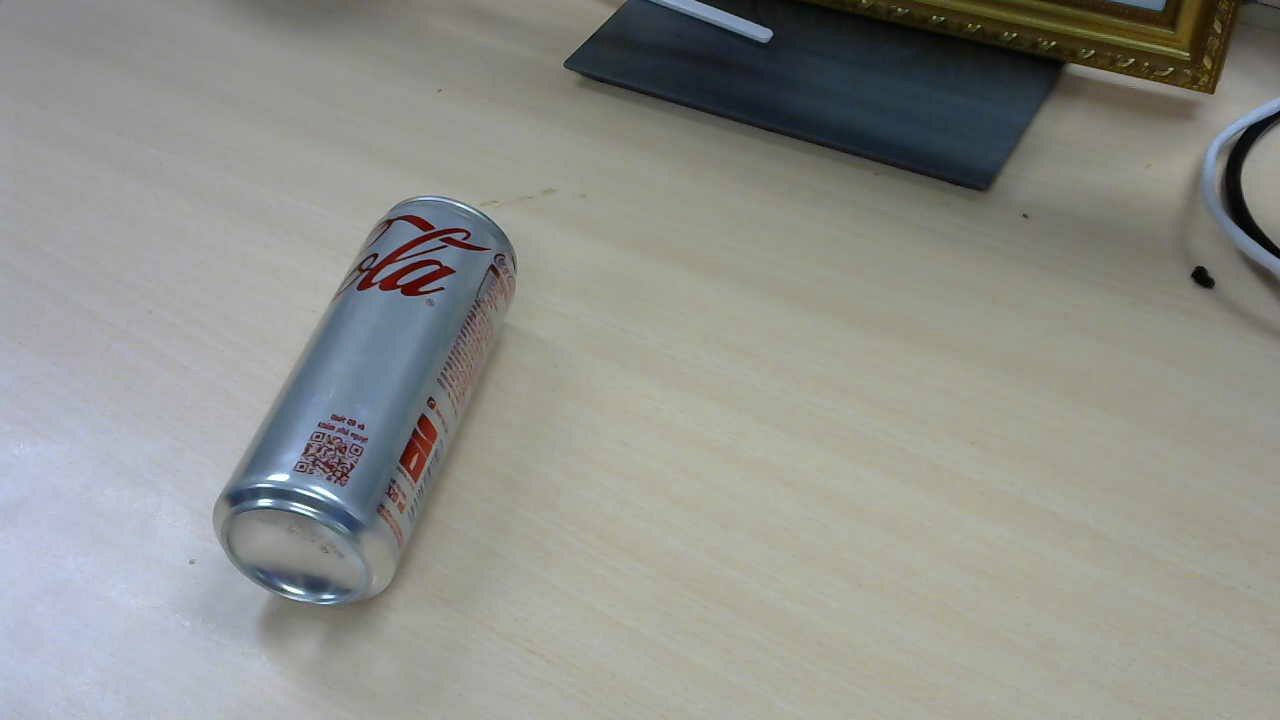Coca_Cola: (216, 201, 525, 613)
